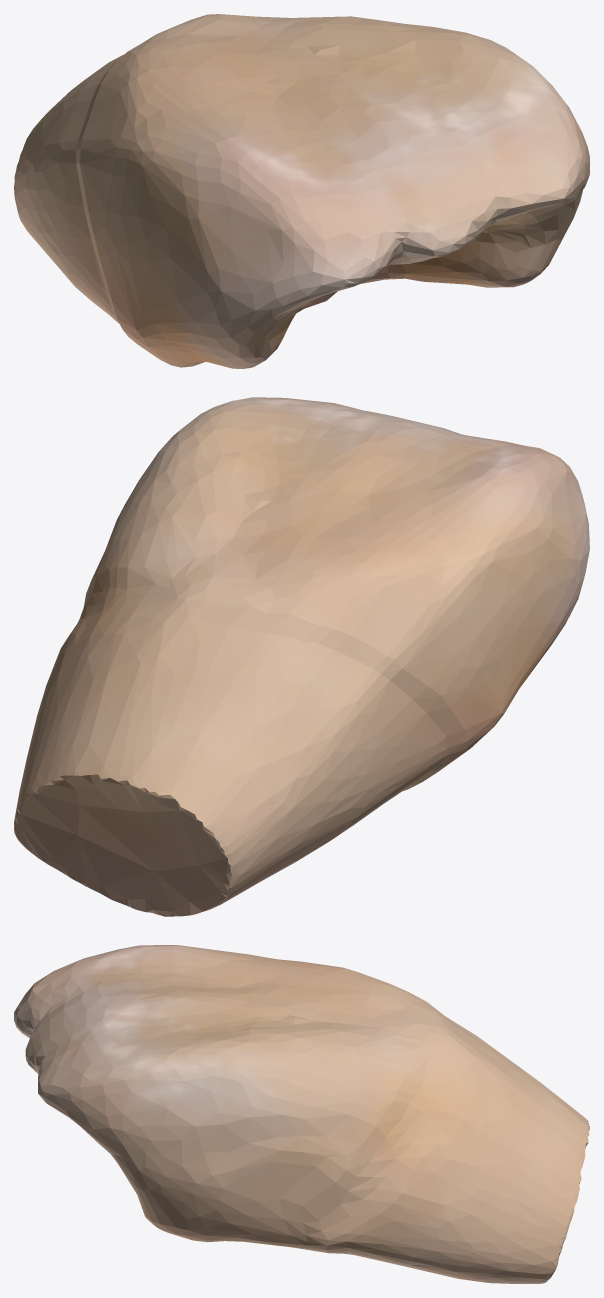
File: local_t21_7780.OBJ
The picture shows the model from 3 angles, top to bottom: view 1: azimuth 30°, elevation 25°; view 2: azimuth 150°, elevation 25°; view 3: azimuth 270°, elevation 25°; orthographic projection. The views are drawn at different scales.
Visible parts, largest first — view 1: ZBrush_defualt_group; view 2: ZBrush_defualt_group; view 3: ZBrush_defualt_group.
Boxes of the visible parts, bbox=[...] form: ZBrush_defualt_group: bbox=[14, 14, 589, 368]; ZBrush_defualt_group: bbox=[14, 397, 589, 916]; ZBrush_defualt_group: bbox=[14, 945, 589, 1283].
Bounding box in the file's own units: 8.77 × 6.98 × 13.43.
Materials: 1 (1 with a texture image).
